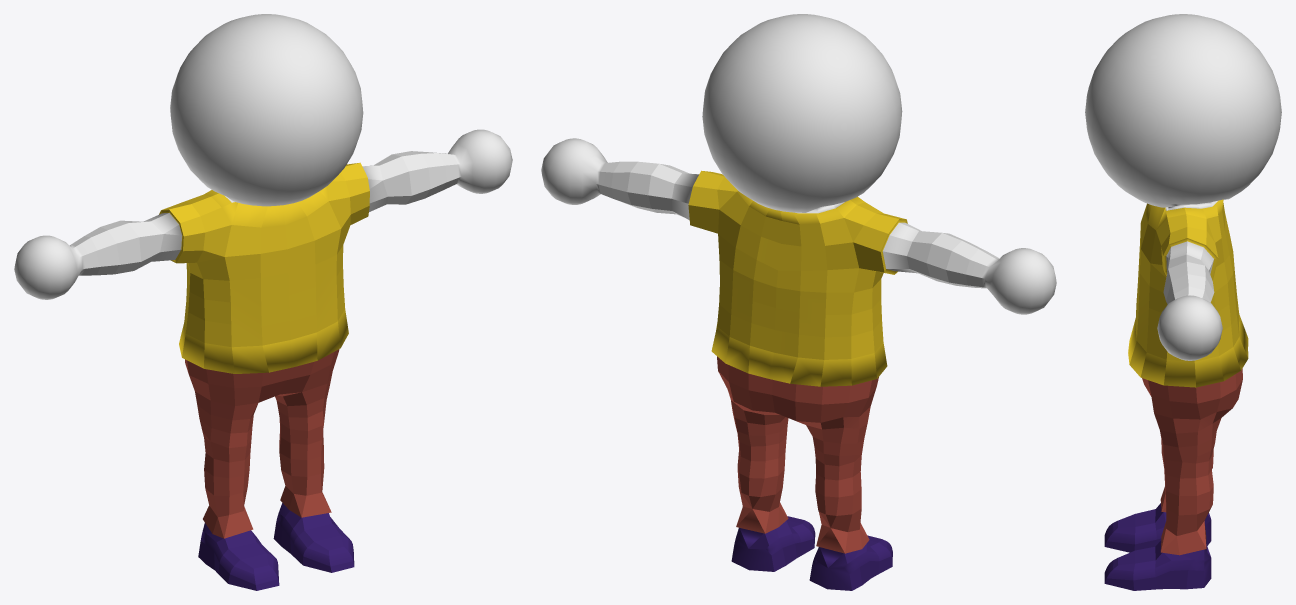
Rendered from chibi.tshirt.fbx.
The picture shows the model from 3 angles, left to right: view 1: azimuth 30°, elevation 25°; view 2: azimuth 150°, elevation 25°; view 3: azimuth 270°, elevation 25°; orthographic projection. The views are drawn at different scales.
Visible parts, largest first — view 1: tshirt; view 2: tshirt; view 3: tshirt.
Part boxes in pixels (x1=…): tshirt: x1=14, y1=14, x2=512, y2=590; tshirt: x1=541, y1=14, x2=1056, y2=590; tshirt: x1=1085, y1=14, x2=1281, y2=590.
Bounding box in the file's own units: 105 × 108 × 36.
